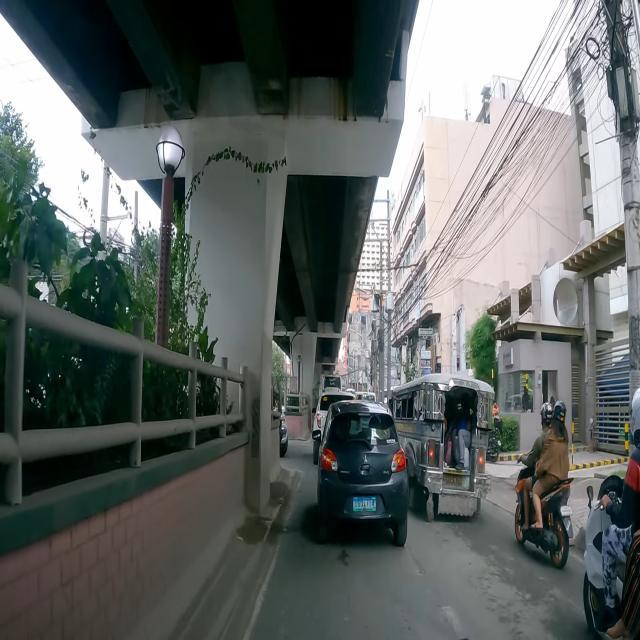car: (317, 399, 409, 546)
jeepney: (388, 373, 494, 520)
motorcycle: (583, 388, 640, 640), (515, 401, 572, 568), (486, 413, 503, 462)
